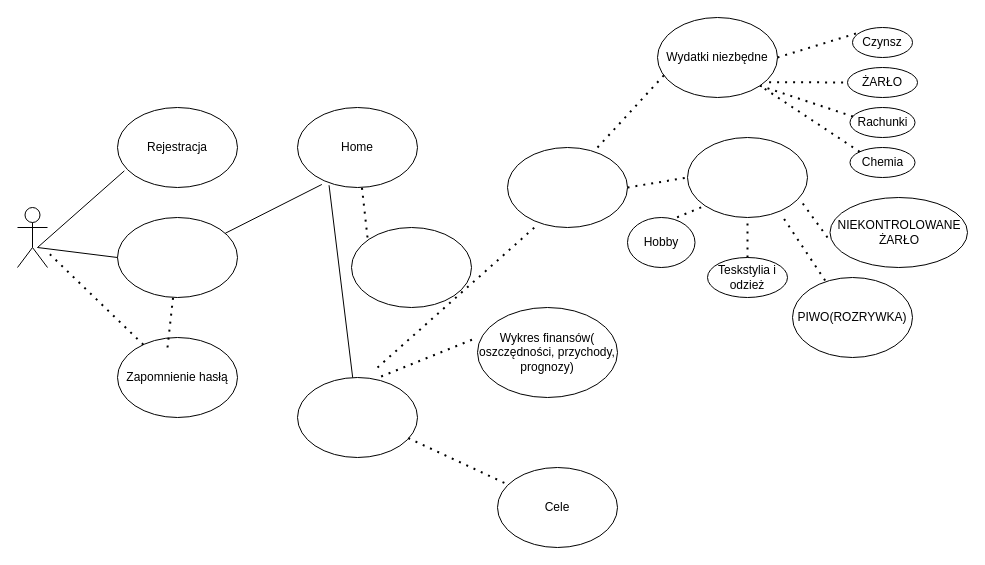
Image size: 985x565. Some labels were removed from this diagram. Here are the shapes that lost their labels. From the top down, the centre of each, then its label:
At point (567, 187): "Tabele do wpisywania danych".
At point (747, 177): "Wydatki spontaniczne".
At point (32, 237): "Actor".
At point (177, 257): "Logowanie".
At point (411, 267): "Zmień hasło".
At point (357, 417): "Przejdź do".
